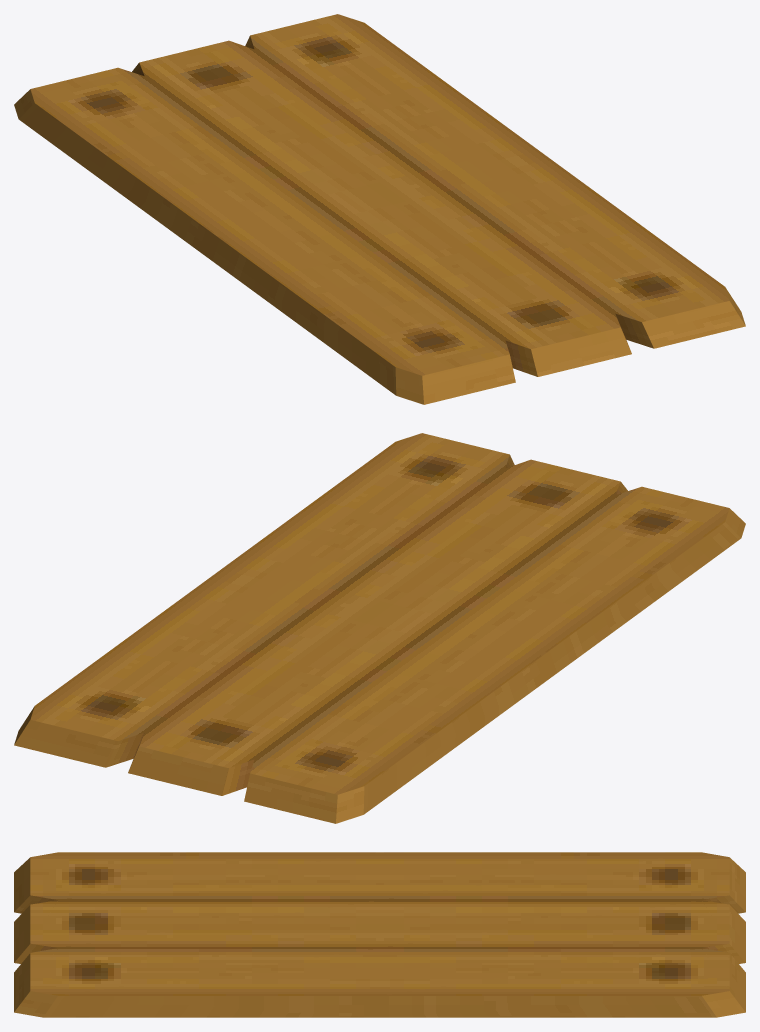
Rendered from joubunaita.obj.
The picture shows the model from 3 angles, top to bottom: view 1: azimuth 30°, elevation 25°; view 2: azimuth 150°, elevation 25°; view 3: azimuth 270°, elevation 25°; orthographic projection. The views are drawn at different scales.
Visible parts, largest first — view 1: joubunaita1; view 2: joubunaita1; view 3: joubunaita1.
Boxes of the visible parts, left/top/right/bottom form: joubunaita1: left=14, top=14, right=745, bottom=404; joubunaita1: left=14, top=433, right=745, bottom=823; joubunaita1: left=14, top=852, right=745, bottom=1017.
Size of the model in its own units: 1.54 by 0.088 by 3.17.
Materials: 1 (1 with a texture image).
